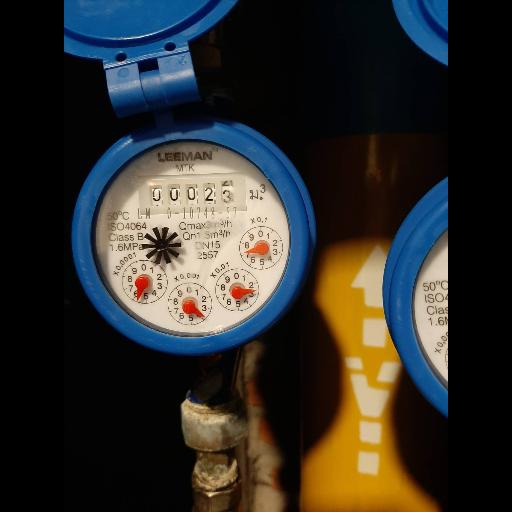0: (184, 182, 200, 206), (167, 183, 182, 205), (149, 185, 164, 206)
2: (201, 183, 217, 204)
3: (219, 179, 235, 203)
border_water_meter_number: (138, 171, 247, 215)
